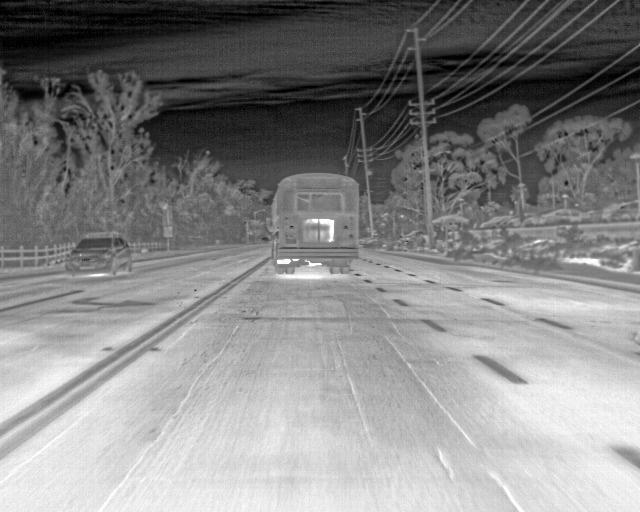car: (66, 234, 134, 277)
